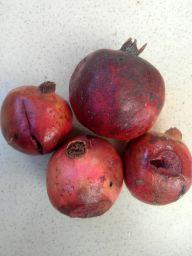pomegranate: (70, 38, 166, 141), (45, 136, 124, 220), (122, 127, 192, 206), (0, 81, 72, 156)
